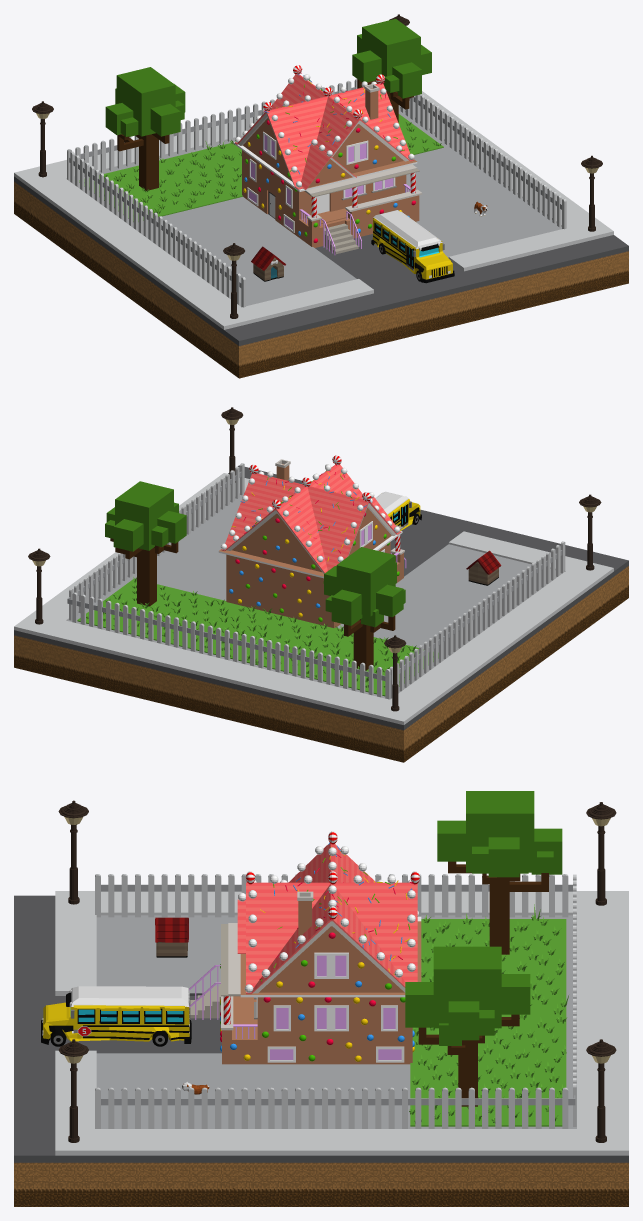
3 renders of one model, top to bottom at view 1: azimuth 30°, elevation 25°; view 2: azimuth 150°, elevation 25°; view 3: azimuth 270°, elevation 25°, orthographic. The views are drawn at different scales.
Parts seen in each view (by area): view 1: Cube.004, Cube.1203, VEHICLES_SCHOOL_BUS, OBJRANDOM_DOGHOUSE; view 2: Cube.004, Cube.1203, VEHICLES_SCHOOL_BUS, OBJRANDOM_DOGHOUSE; view 3: Cube.004, Cube.1203, VEHICLES_SCHOOL_BUS, OBJRANDOM_DOGHOUSE.
Boxes of the visible parts, x1=… form: Cube.004: x1=14, y1=14, x2=628, y2=378; Cube.1203: x1=233, y1=65, x2=422, y2=255; VEHICLES_SCHOOL_BUS: x1=371, y1=210, x2=454, y2=283; OBJRANDOM_DOGHOUSE: x1=251, y1=246, x2=285, y2=281; Cube.004: x1=14, y1=407, x2=628, y2=762; Cube.1203: x1=218, y1=455, x2=406, y2=627; VEHICLES_SCHOOL_BUS: x1=375, y1=491, x2=421, y2=530; OBJRANDOM_DOGHOUSE: x1=466, y1=550, x2=501, y2=585; Cube.004: x1=14, y1=791, x2=628, y2=1206; Cube.1203: x1=189, y1=831, x2=421, y2=1064; VEHICLES_SCHOOL_BUS: x1=41, y1=986, x2=191, y2=1046; OBJRANDOM_DOGHOUSE: x1=155, y1=917, x2=188, y2=957.
Bounding box in the file's own units: 4000 × 1602 × 4000.
50 materials, 4 textured.
